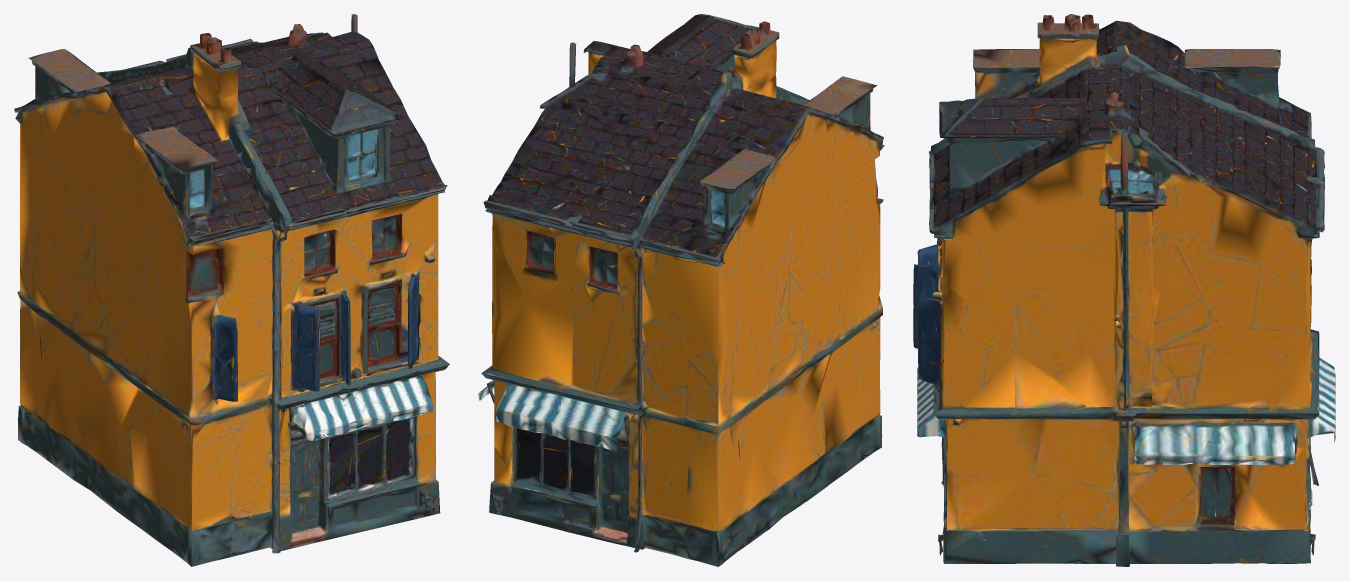
The model's file is house-ochre.glb.
The picture shows the model from 3 angles, left to right: view 1: azimuth 30°, elevation 25°; view 2: azimuth 150°, elevation 25°; view 3: azimuth 270°, elevation 25°; orthographic projection. The views are drawn at different scales.
Size of the model in its own units: 1.14 by 1.9 by 1.56.
Materials: 1 (1 with a texture image).
